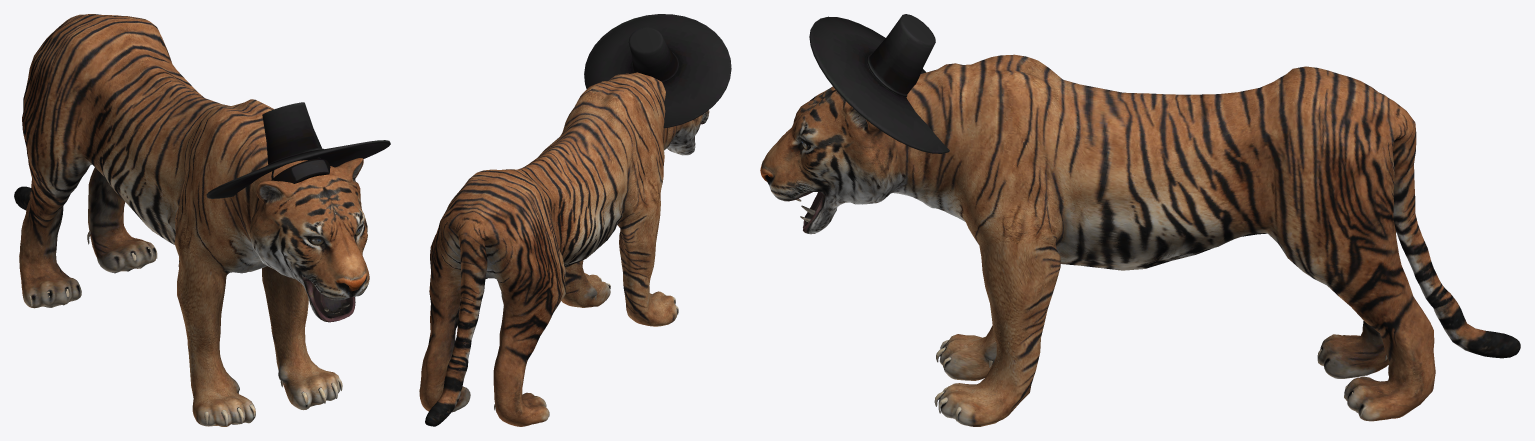
Rendered from Tiger.fbx.
The picture shows the model from 3 angles, left to right: view 1: azimuth 30°, elevation 25°; view 2: azimuth 150°, elevation 25°; view 3: azimuth 270°, elevation 25°; orthographic projection. The views are drawn at different scales.
Visible parts, largest first — view 1: Tiger_SHP, Haengsu_Hat; view 2: Tiger_SHP, Haengsu_Hat; view 3: Tiger_SHP, Haengsu_Hat.
Part boxes in pixels (x1=…): Tiger_SHP: x1=14, y1=14, x2=369, y2=426; Haengsu_Hat: x1=206, y1=102, x2=390, y2=198; Tiger_SHP: x1=419, y1=72, x2=709, y2=426; Haengsu_Hat: x1=584, y1=14, x2=731, y2=128; Tiger_SHP: x1=760, y1=54, x2=1520, y2=426; Haengsu_Hat: x1=809, y1=14, x2=949, y2=153.
Size of the model in its own units: 68.22 by 127 by 234.
Materials: 2 (2 with a texture image).
